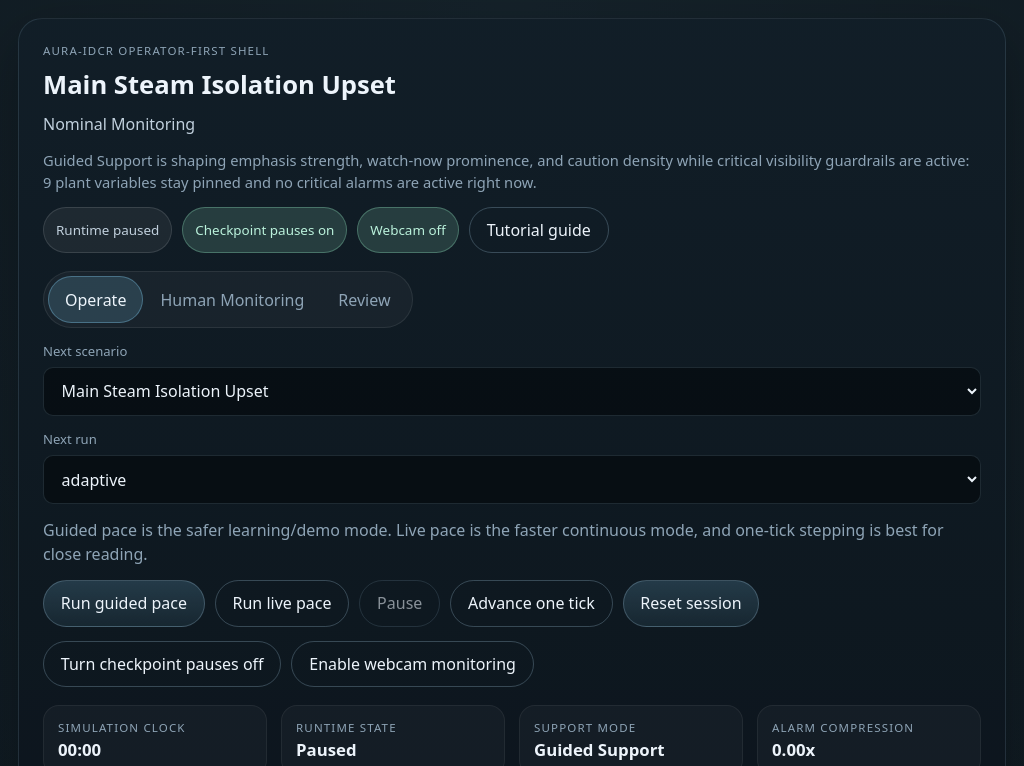
it: AuraSessionStore › resets the full tutorial to the intro scenario and locks progression until the required step action completes
This screenshot has width=1024, height=766.
Click the button "Tutorial guide".
click(539, 230)  # box left=469, top=207, right=609, bottom=253
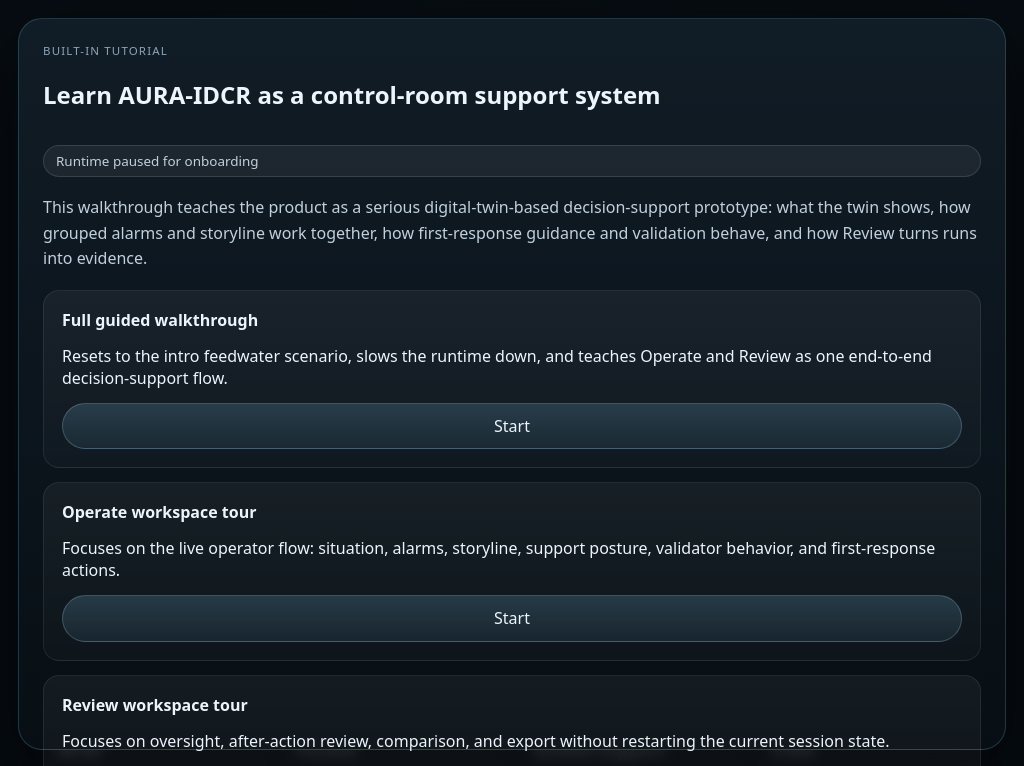
Click the button with aria-label "Start Full guided walkthrough".
click(512, 426)  # box left=62, top=403, right=962, bottom=449
(page scrolled)
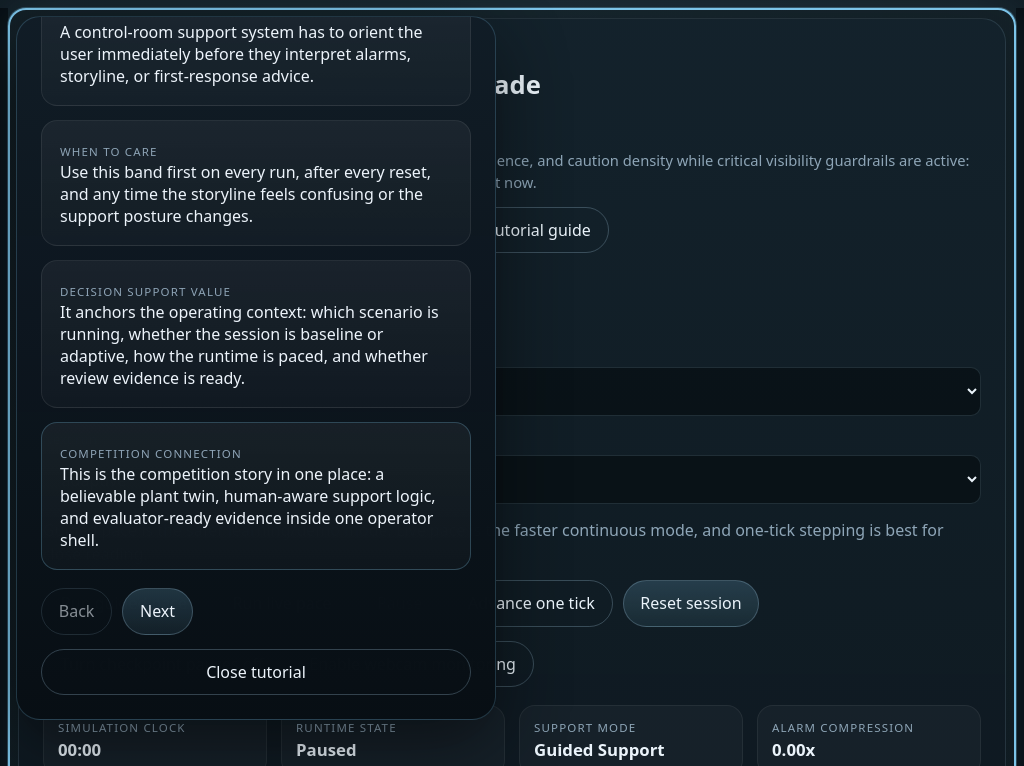
Click the button "Next".
click(158, 611)  # box left=122, top=588, right=193, bottom=634
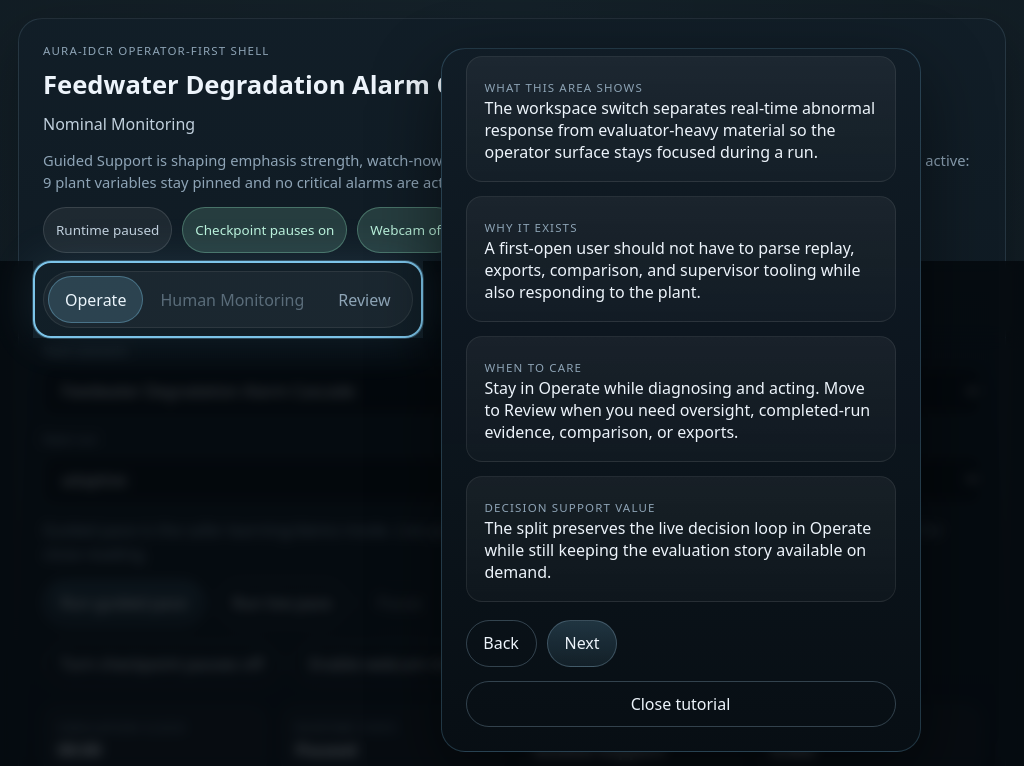
Click the button "Next".
click(582, 643)  # box left=547, top=620, right=617, bottom=666
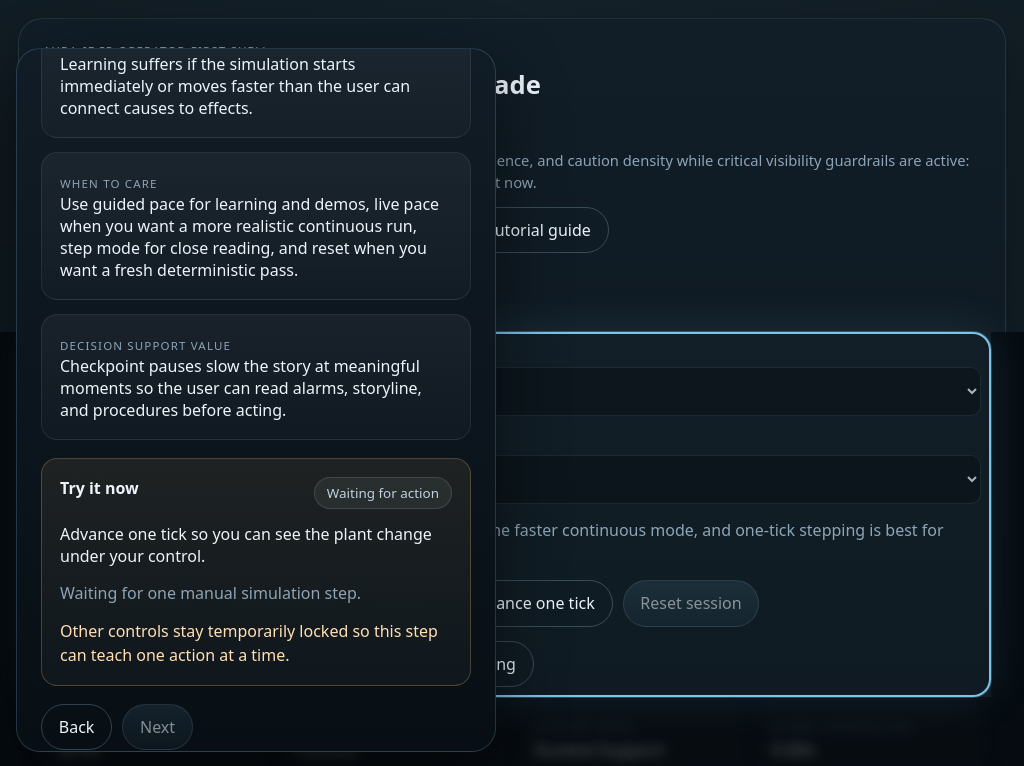
Expected: the button "Next" is disabled, left=122, top=704, right=193, bottom=750
Click the button "Advance one tick".
click(531, 603)  # box left=450, top=580, right=612, bottom=627
Wait 300 ms
(page scrolled)
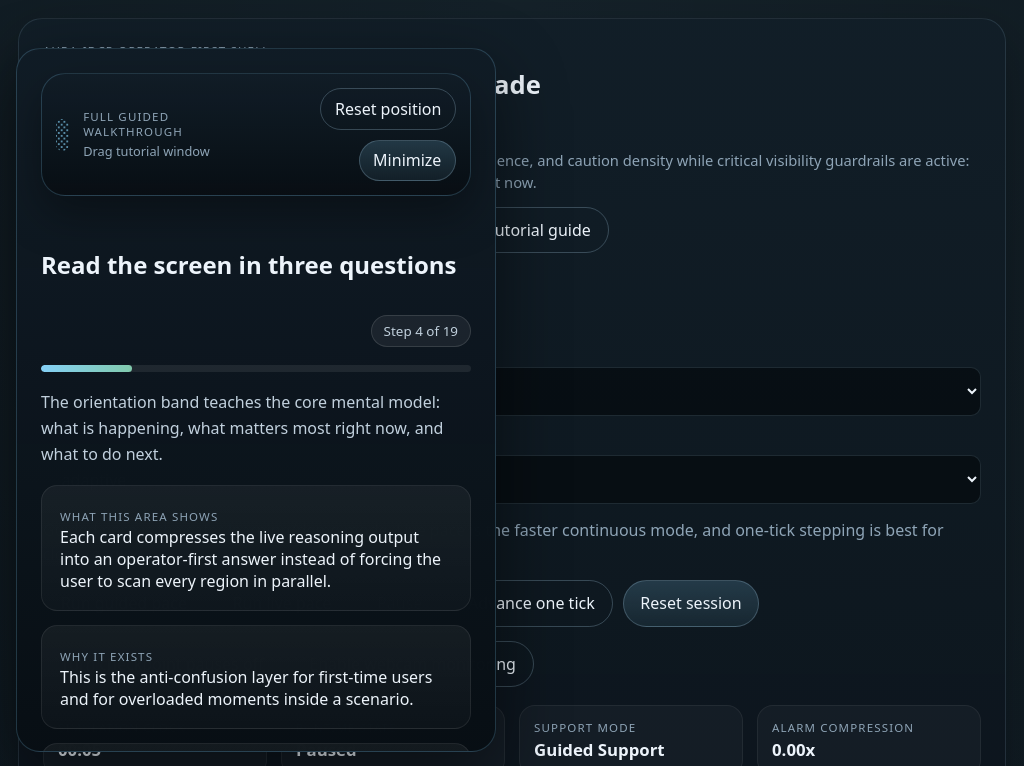
Expected: the heading "Read the screen in three questions" is shown, left=41, top=248, right=471, bottom=281
